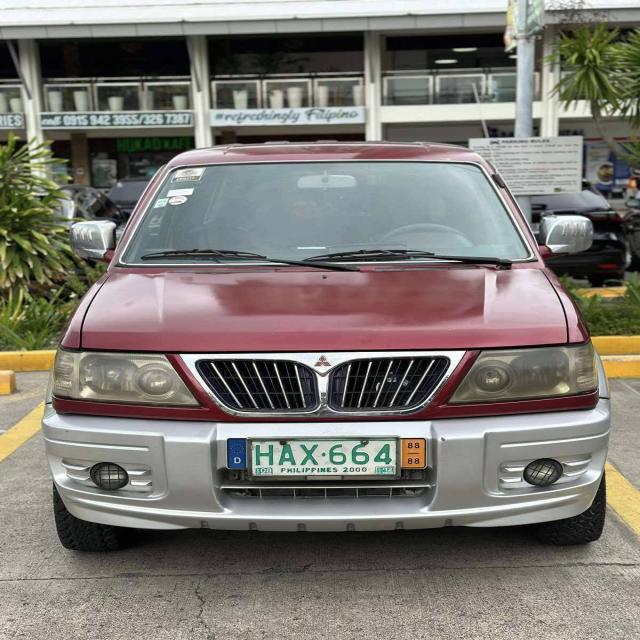number: (249, 438, 399, 480)
